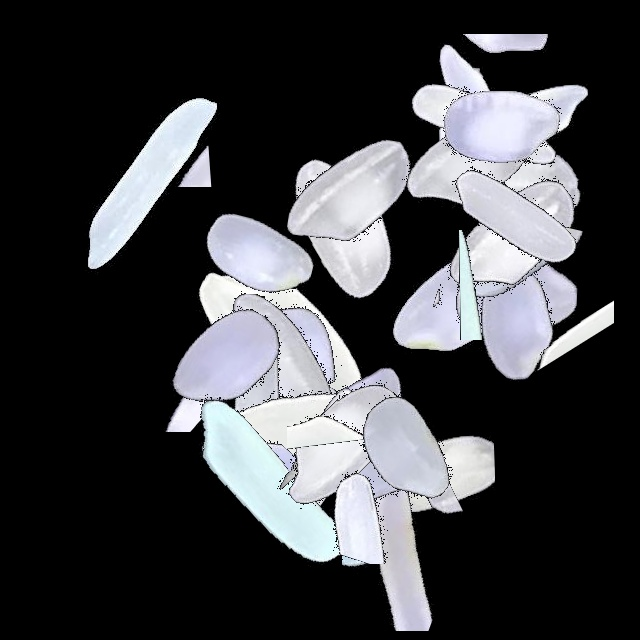Broken: (242, 459, 492, 631), (327, 351, 495, 601), (148, 246, 398, 400), (308, 304, 453, 554), (366, 149, 616, 292), (342, 365, 484, 615), (292, 344, 432, 594), (255, 428, 505, 564), (369, 5, 619, 134), (192, 383, 321, 633), (390, 109, 640, 225), (39, 318, 289, 432), (277, 294, 387, 544), (390, 230, 640, 340), (229, 294, 333, 544), (372, 34, 622, 135), (515, 170, 614, 420), (390, 217, 640, 316), (366, 233, 616, 330), (37, 96, 287, 187), (287, 273, 376, 523), (459, 0, 537, 250), (289, 461, 539, 538), (318, 300, 394, 550)
Full: (156, 220, 406, 470), (28, 59, 278, 309), (321, 178, 571, 428), (390, 170, 640, 420), (390, 59, 640, 309), (145, 259, 395, 509), (390, 0, 640, 250), (158, 236, 408, 486), (132, 131, 382, 381), (360, 0, 610, 250), (390, 195, 640, 445), (241, 303, 491, 553), (135, 274, 385, 524), (220, 98, 470, 348), (201, 305, 451, 555), (196, 332, 446, 582), (390, 124, 640, 374), (226, 62, 476, 312), (101, 234, 351, 484), (348, 36, 598, 286), (139, 359, 389, 609), (390, 115, 640, 365), (215, 320, 465, 570), (283, 326, 533, 576), (378, 0, 628, 250), (390, 92, 640, 342)
